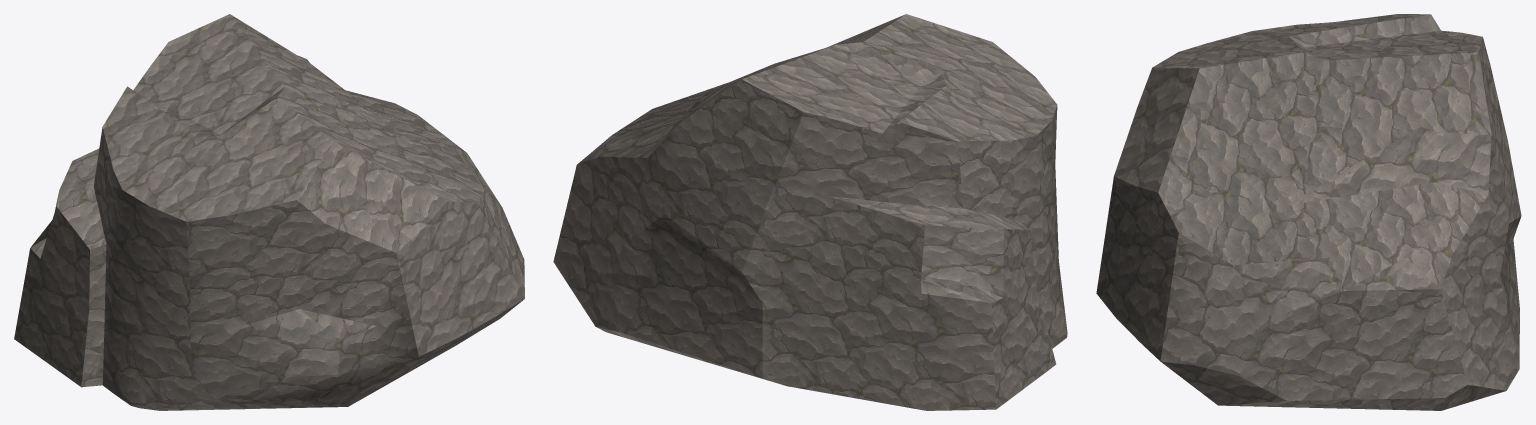
File: grock_medium_2.glb
3 renders of one model, left to right at view 1: azimuth 30°, elevation 25°; view 2: azimuth 150°, elevation 25°; view 3: azimuth 270°, elevation 25°, orthographic. The views are drawn at different scales.
Parts seen in each view (by area): view 1: model; view 2: model; view 3: model.
Boxes of the visible parts, box(x1,y1,x2,y2) form: model: box(14, 14, 524, 410); model: box(553, 14, 1067, 410); model: box(1096, 14, 1521, 410).
Bounding box in the file's own units: 3.05 × 1.9 × 2.48.
Materials: 1 (1 with a texture image).
